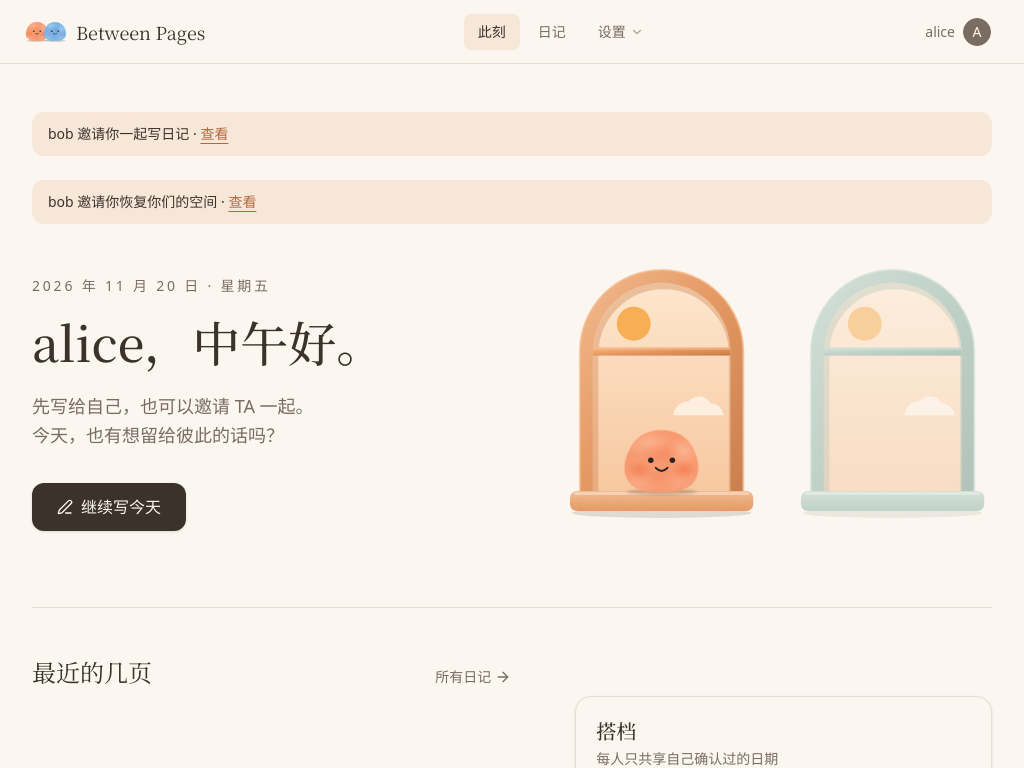
it: an invitation addressed to me › [adr:in-app-invitation-by-email#4] shows a home line per invitation that opens the confirm page by ID
Expected: the text "bob 邀请你一起写日记 · 查看" is shown, [32, 112, 992, 156]
Expected: the text "bob 邀请你恢复你们的空间 · 查看" is shown, [32, 180, 992, 224]
Click the link "查看" next to "bob 邀请你一起写日记" at (214, 134), box [200, 124, 228, 143]
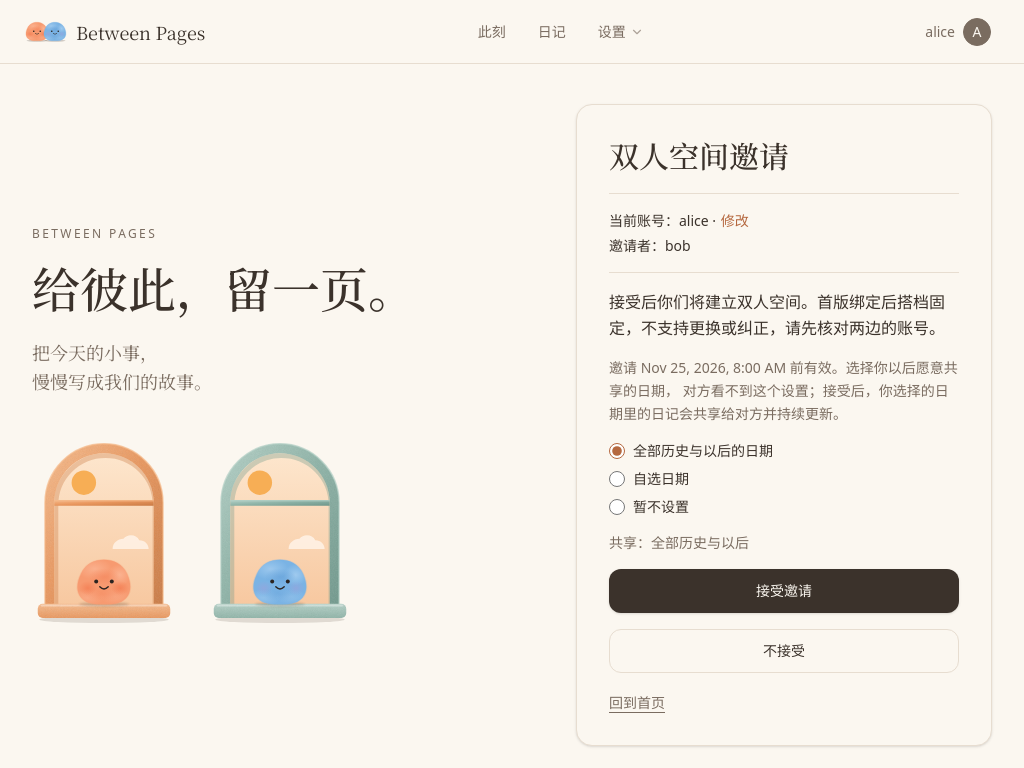
Result: the button "接受邀请" is shown at [609, 569, 959, 613]
